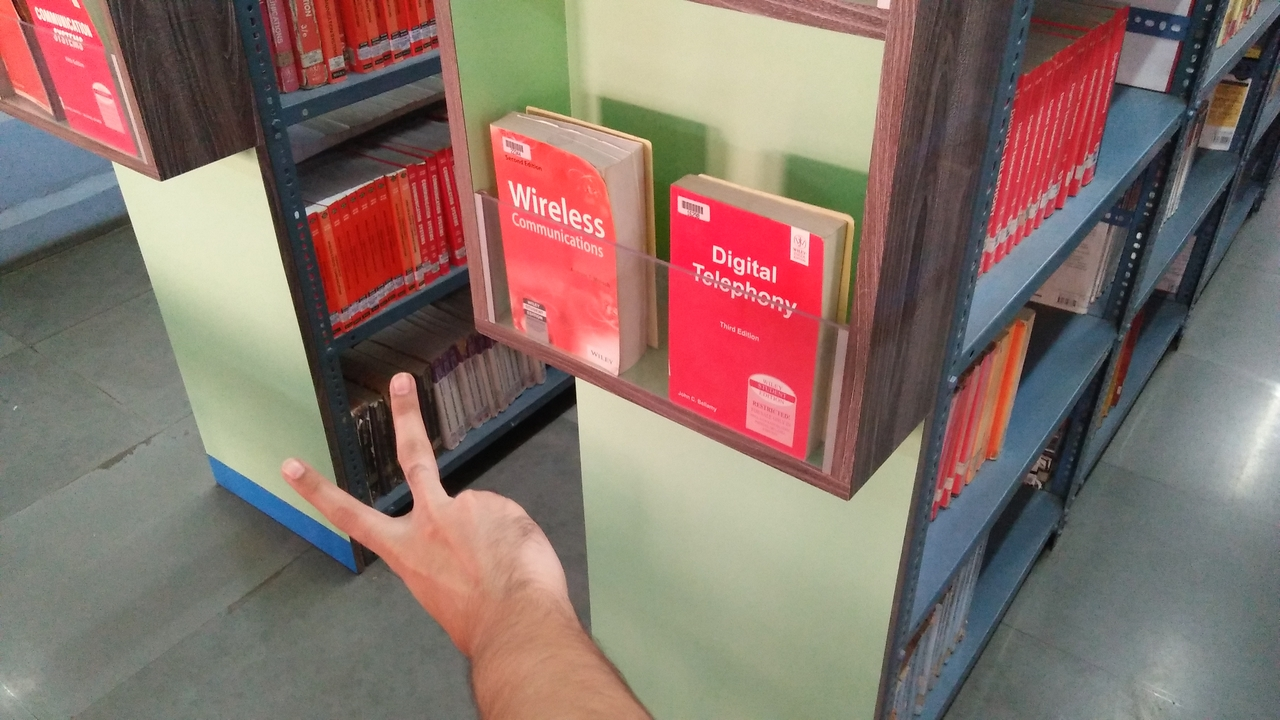fingertip: (267, 449, 315, 492), (374, 367, 425, 405)
